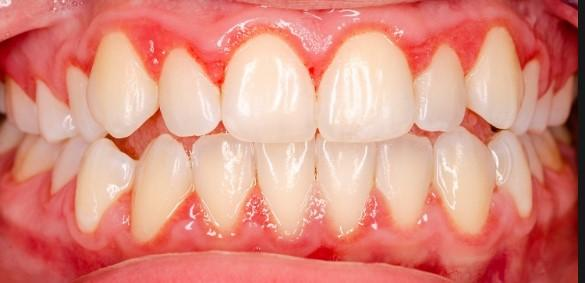Gingivitis: (402, 7, 492, 80), (184, 32, 246, 98), (128, 13, 179, 75), (236, 190, 288, 242), (508, 25, 556, 77)
